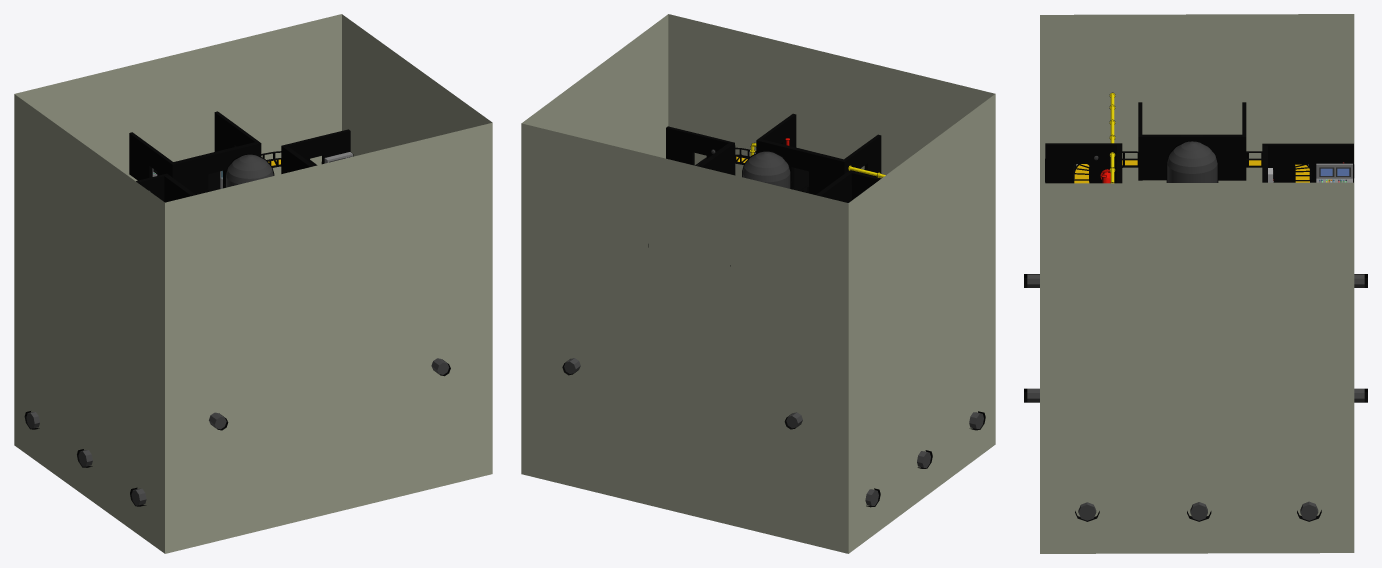
Rendered from Level 1 Ambientado.fbx.
The picture shows the model from 3 angles, left to right: view 1: azimuth 30°, elevation 25°; view 2: azimuth 150°, elevation 25°; view 3: azimuth 270°, elevation 25°; orthographic projection. The views are drawn at different scales.
Parts seen in each view (by area): view 1: Base Reator, Sala Nuclear.003, Sala Nuclear.001, Canos, Cylinder.006, Sala Nuclear.002; view 2: Base Reator, Sala Nuclear.004, Sala Nuclear.001, Cylinder.006, Canos, Sala Nuclear.002; view 3: Base Reator, Sala Nuclear.002, Sala Nuclear.003, Sala Nuclear.004, Cylinder.006, Canos, Base.001.
Boxes of the visible parts, x1,y1,x2,y2 form: Base Reator: [14, 14, 492, 553]; Sala Nuclear.003: [129, 111, 261, 194]; Sala Nuclear.001: [281, 129, 350, 173]; Canos: [24, 358, 450, 506]; Cylinder.006: [225, 153, 274, 187]; Sala Nuclear.002: [136, 173, 195, 202]; Base Reator: [521, 14, 995, 553]; Sala Nuclear.004: [756, 113, 881, 194]; Sala Nuclear.001: [666, 126, 735, 175]; Cylinder.006: [742, 150, 790, 188]; Canos: [562, 358, 985, 507]; Sala Nuclear.002: [816, 170, 881, 202]; Base Reator: [1040, 14, 1354, 553]; Sala Nuclear.002: [1138, 102, 1246, 180]; Sala Nuclear.003: [1262, 143, 1354, 182]; Sala Nuclear.004: [1045, 143, 1122, 183]; Cylinder.006: [1166, 140, 1218, 182]; Canos: [1024, 274, 1367, 521]; Base.001: [1316, 163, 1353, 182].
Size of the model in its own units: 7147 by 7061 by 5936.
